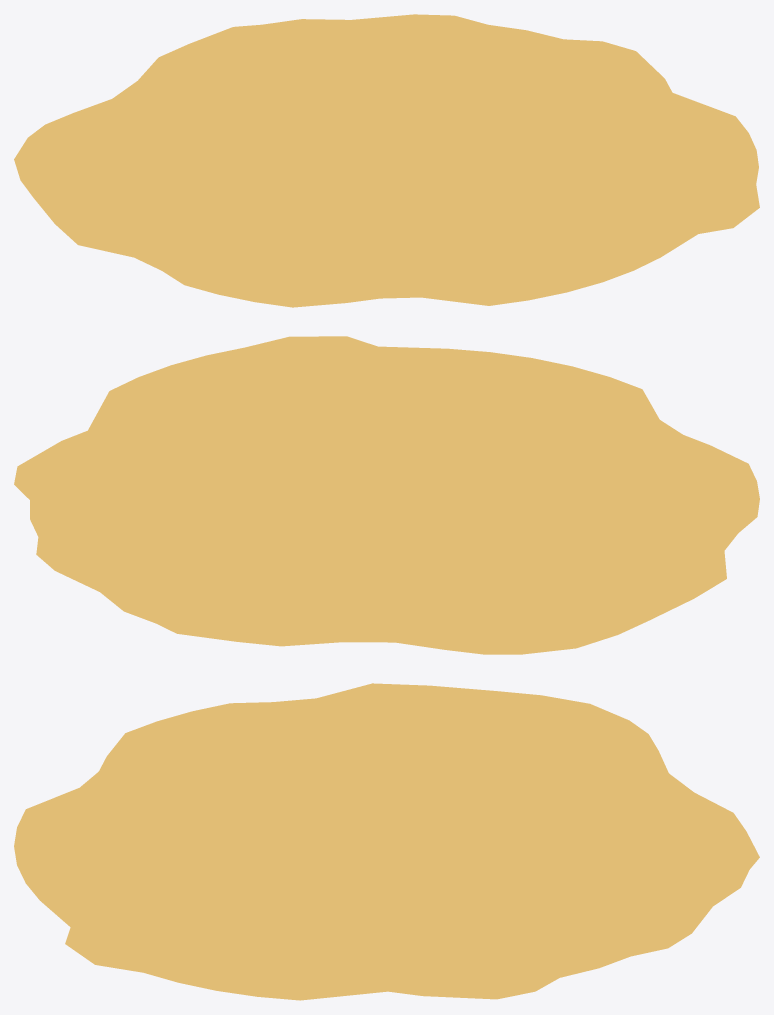
The model's file is binaalt.fbx.
3 renders of one model, top to bottom at view 1: azimuth 30°, elevation 25°; view 2: azimuth 150°, elevation 25°; view 3: azimuth 270°, elevation 25°, orthographic. The views are drawn at different scales.
Visible parts, largest first — view 1: sandground; view 2: sandground; view 3: sandground.
Part boxes in pixels (x1=…): sandground: x1=14, y1=14, x2=759, y2=307; sandground: x1=14, y1=336, x2=759, y2=654; sandground: x1=14, y1=683, x2=759, y2=1000.
Size of the model in its own units: 405 by 1.17 by 400.
